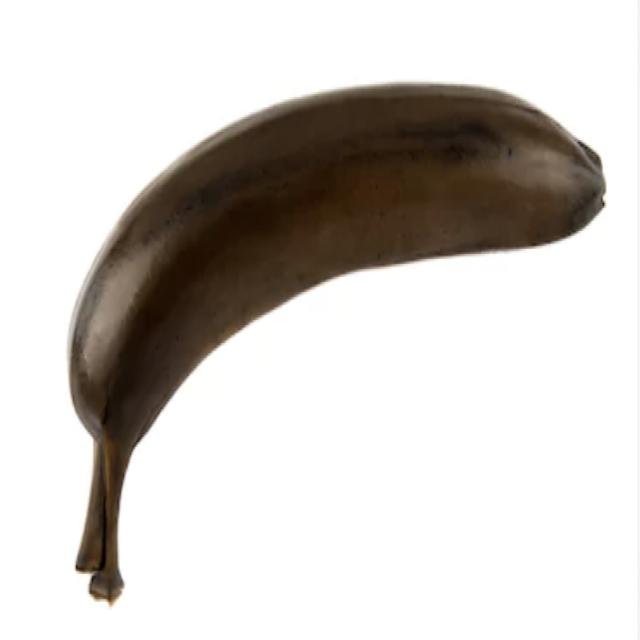rotten-banana: (66, 78, 606, 606)
